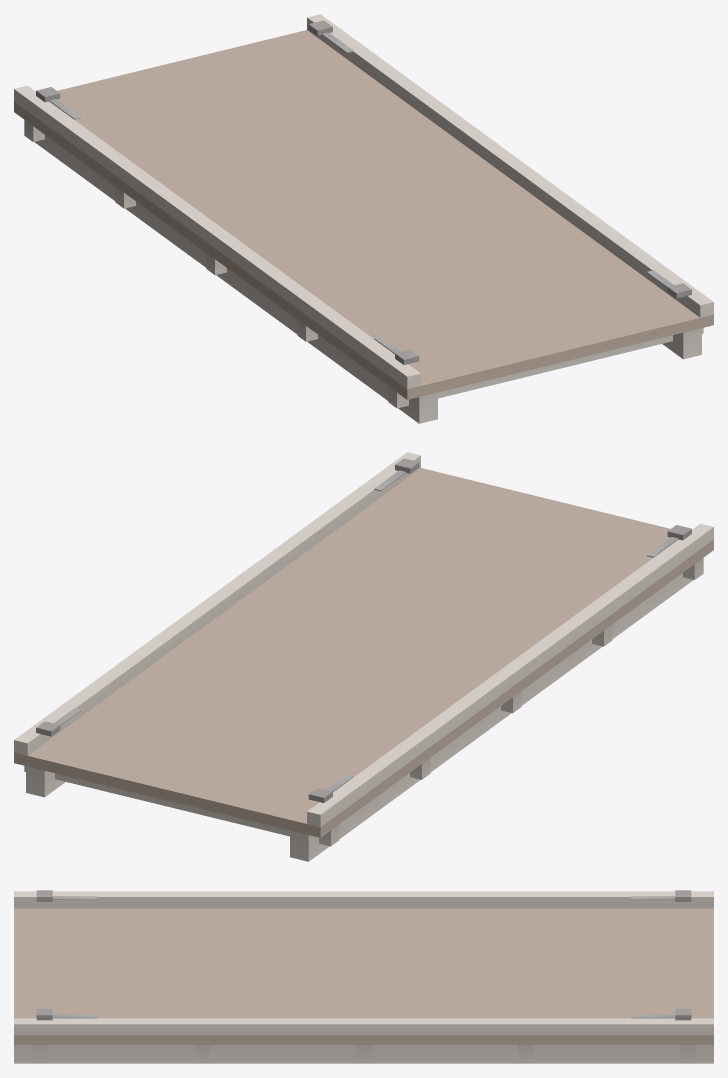
File: kit_bridge.glb
The picture shows the model from 3 angles, top to bottom: view 1: azimuth 30°, elevation 25°; view 2: azimuth 150°, elevation 25°; view 3: azimuth 270°, elevation 25°; orthographic projection. The views are drawn at different scales.
Parts seen in each view (by area): view 1: kit_bridge; view 2: kit_bridge; view 3: kit_bridge.
Boxes of the visible parts, bbox=[...] form: kit_bridge: bbox=[14, 14, 713, 423]; kit_bridge: bbox=[14, 452, 713, 861]; kit_bridge: bbox=[14, 890, 713, 1063].
Size of the model in its own units: 3.6 by 0.62 by 8.
